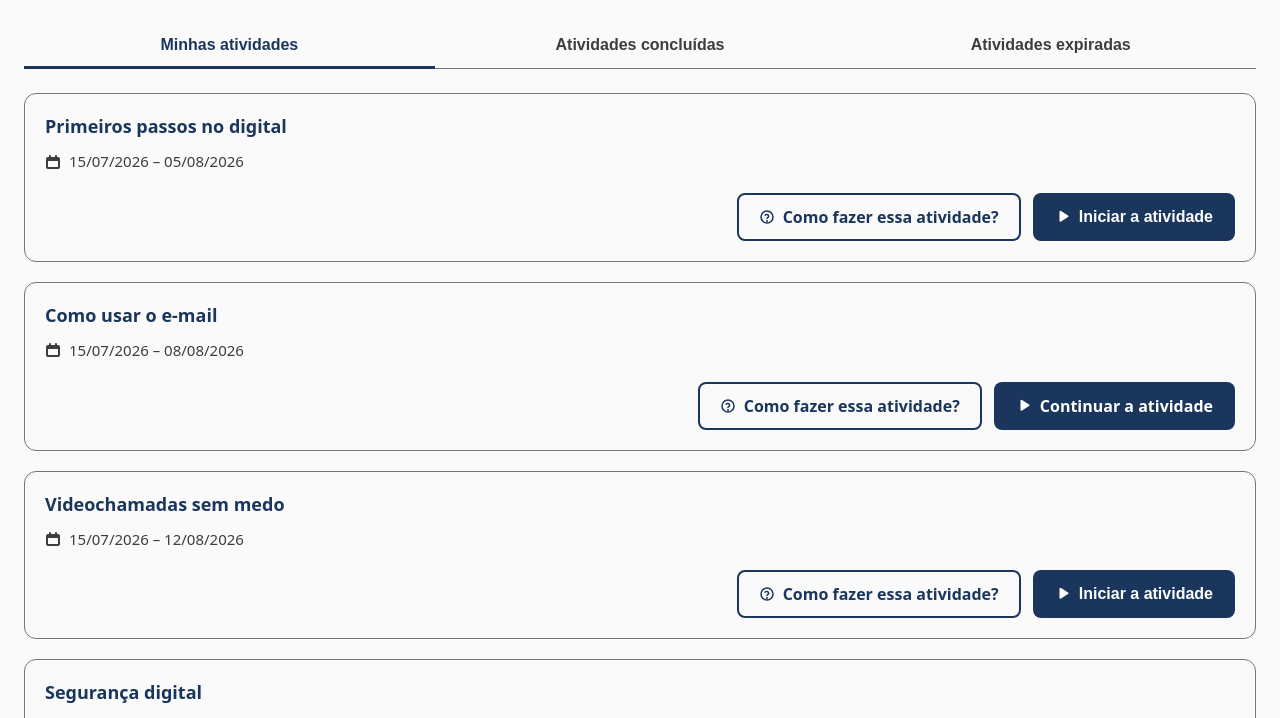
Scenario: TaskListPanel › exibe layout de atividades expiradas com badge e mensagem de prazo
Click the tab "Atividades expiradas": (1051, 46) [845,24,1256,69]
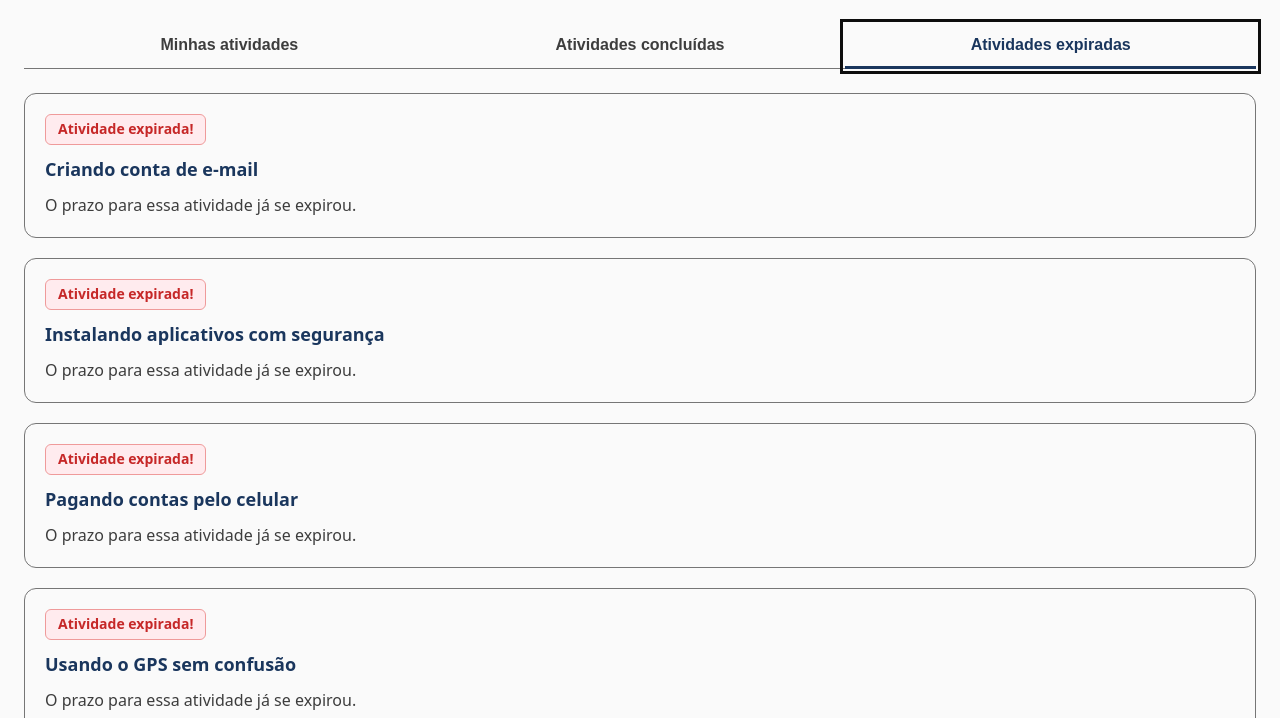
Result: the heading "Criando conta de e-mail" is shown at [45,157,258,181]
